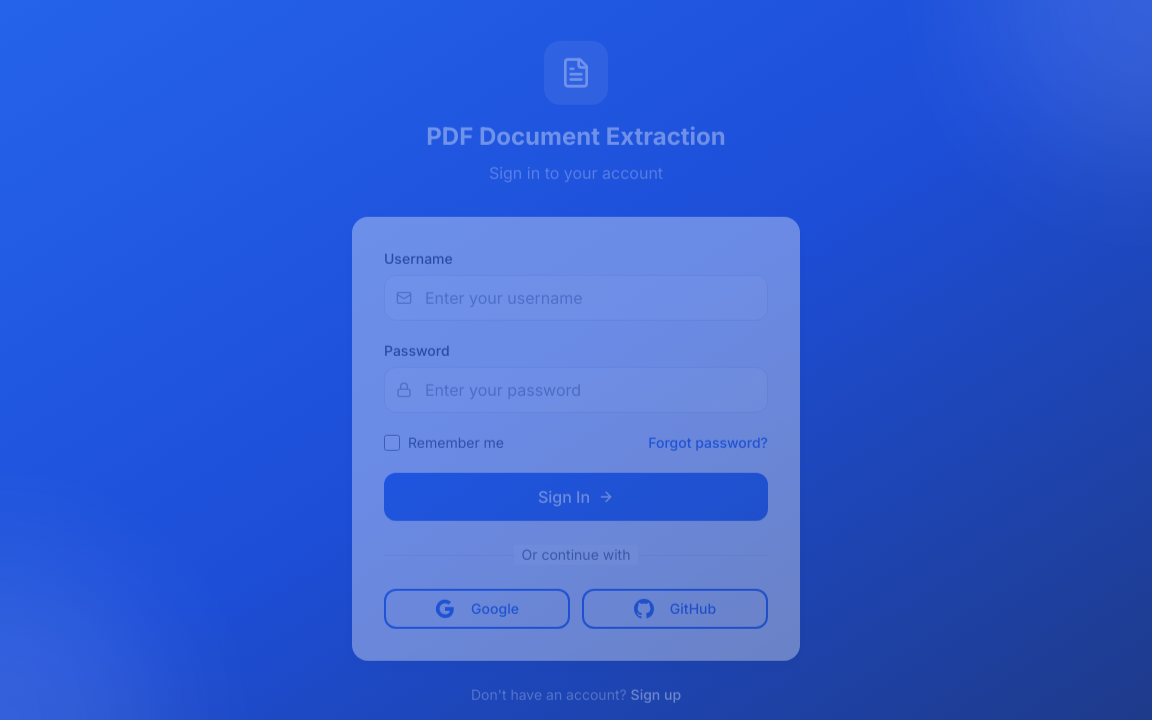
Scenario: LoginPage › Form Validation › shows error when password is too short
Type "testuser" into the field labelled "Username" at (576, 298), box [384,275,768,321]
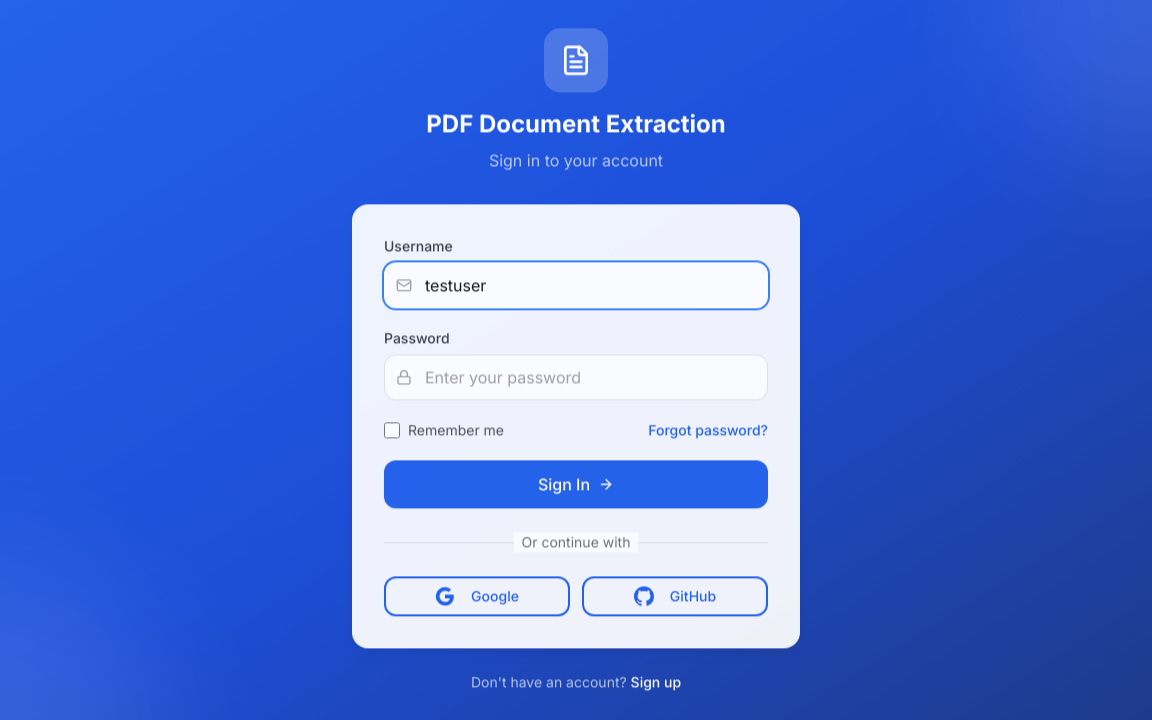
Type "12345" into the password field labelled "Password" at (576, 377), box [384,354,768,400]
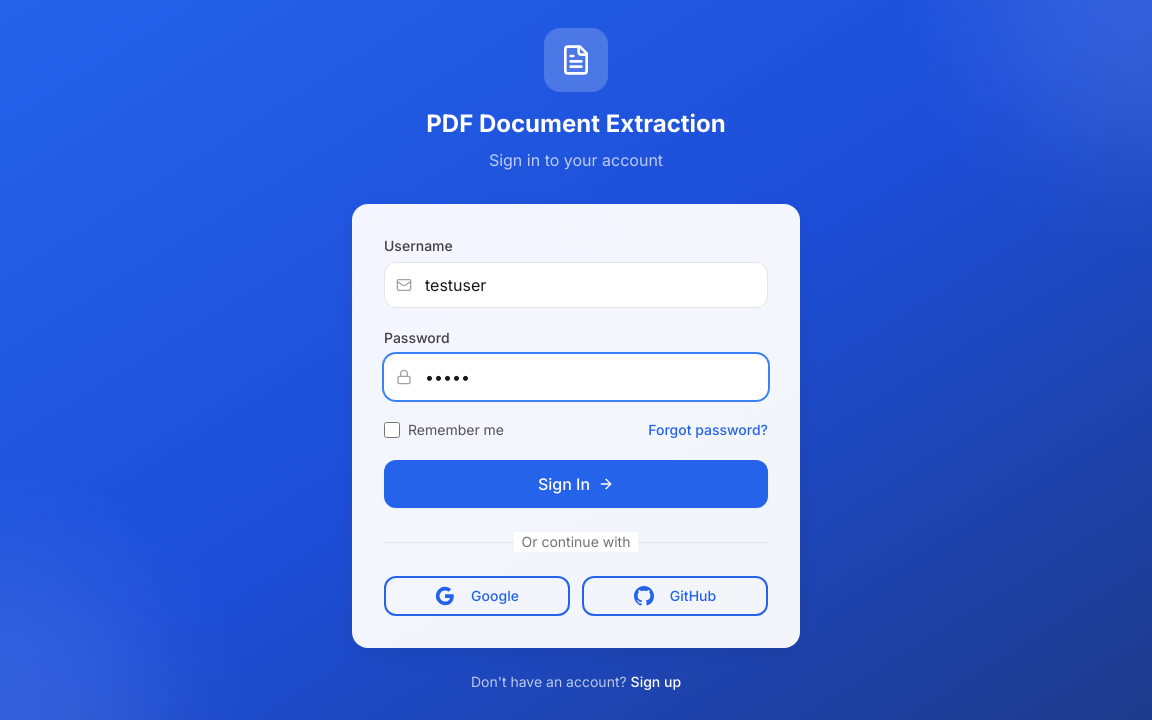
Click the button "Sign In" at (576, 484), box [384,460,768,508]
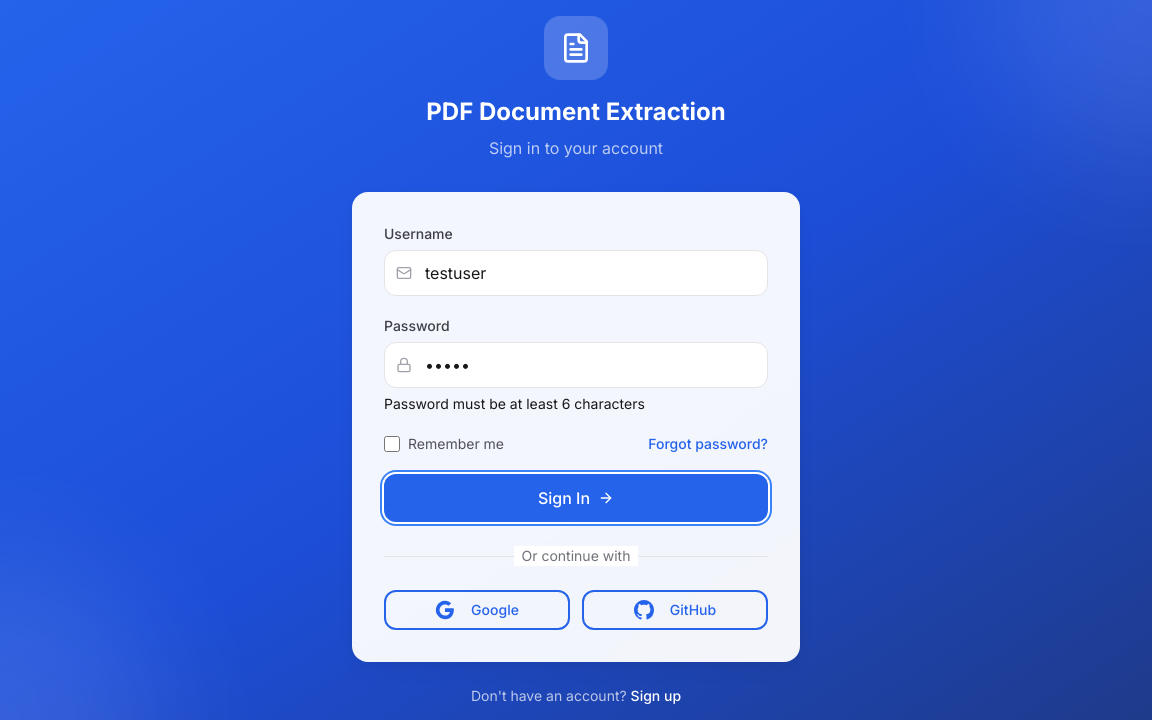
Check: the text "Password must be at least 6 characters" is shown, box [384,395,645,412]
